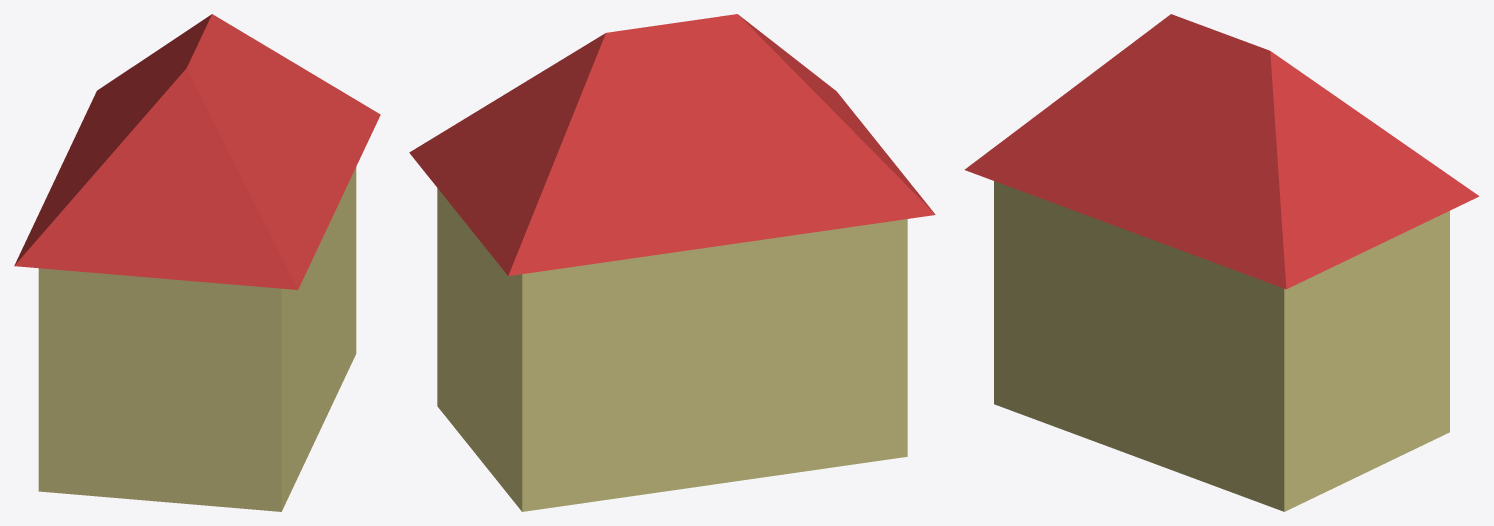
3 views of the same model, side by side, from view 1: azimuth 30°, elevation 25°; view 2: azimuth 150°, elevation 25°; view 3: azimuth 270°, elevation 25° (orthographic). The views are drawn at different scales.
Parts seen in each view (by area): view 1: group_5, group_3, group_4; view 2: group_5, group_3, group_4; view 3: group_5, group_3, group_4.
Boxes of the visible parts, x1,y1,x2,y2 form: group_5: [38, 167, 356, 511]; group_3: [14, 14, 380, 289]; group_4: [14, 86, 297, 289]; group_5: [437, 188, 907, 511]; group_3: [409, 14, 931, 275]; group_4: [509, 94, 935, 275]; group_5: [994, 181, 1449, 511]; group_3: [965, 14, 1479, 289]; group_4: [964, 147, 1050, 169].
Bounding box in the file's own units: 17.88 × 18.32 × 15.16.
